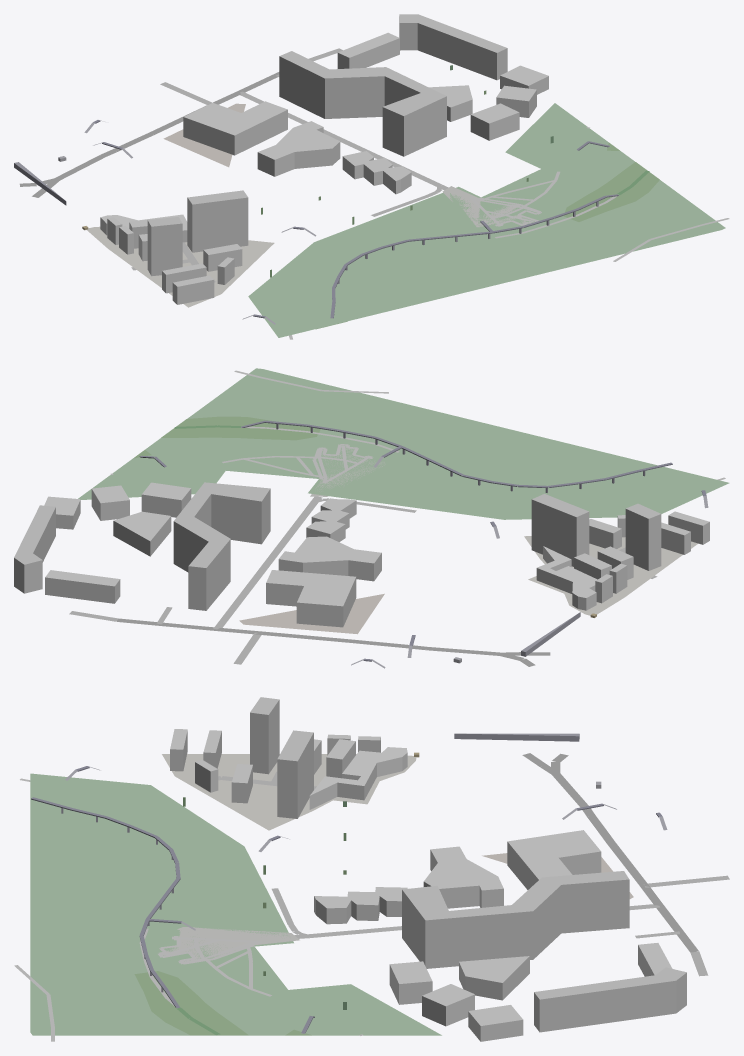
The picture shows the model from 3 angles, top to bottom: view 1: azimuth 30°, elevation 25°; view 2: azimuth 150°, elevation 25°; view 3: azimuth 270°, elevation 25°; orthographic projection. The views are drawn at different scales.
Bounding box in the file's own units: 518 × 49.67 × 535.
